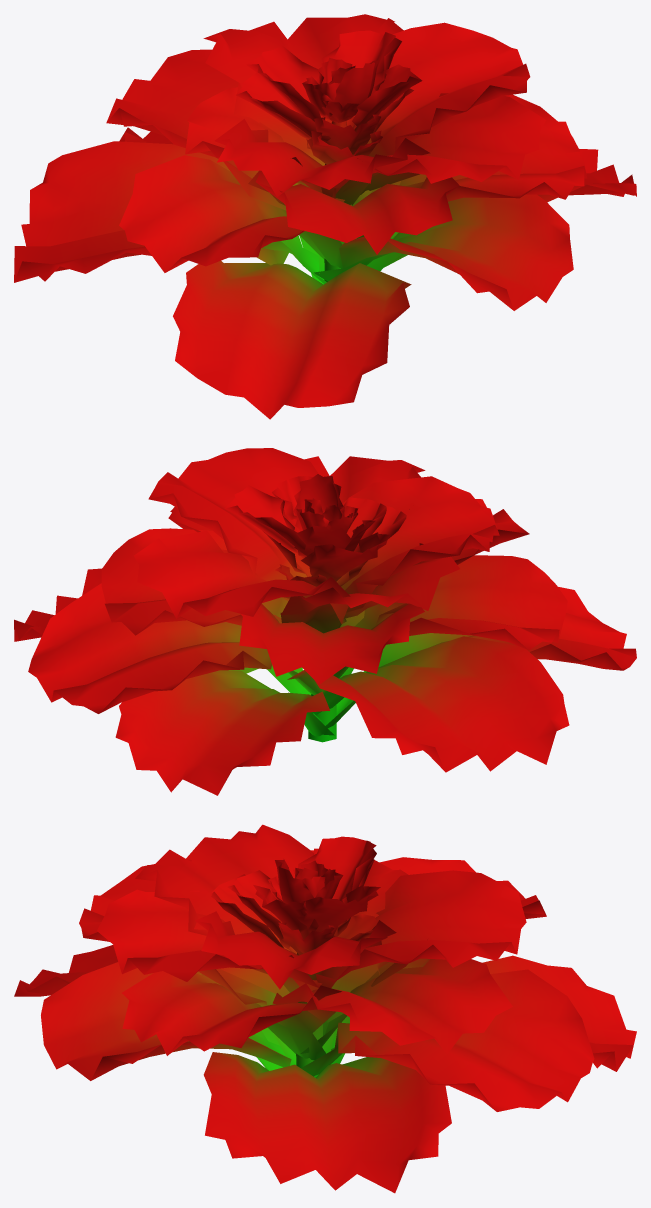
Rendered from White Ornamental Kale_LOD1_Var9_ue3ldcgja.fbx.
3 renders of one model, top to bottom at view 1: azimuth 30°, elevation 25°; view 2: azimuth 150°, elevation 25°; view 3: azimuth 270°, elevation 25°, orthographic. The views are drawn at different scales.
Parts seen in each view (by area): view 1: _ee01_Var9_LOD1; view 2: _ee01_Var9_LOD1; view 3: _ee01_Var9_LOD1.
Part boxes in pixels (bbox=[...]): _ee01_Var9_LOD1: bbox=[14, 14, 636, 419]; _ee01_Var9_LOD1: bbox=[14, 448, 636, 795]; _ee01_Var9_LOD1: bbox=[14, 824, 636, 1193].
Bounding box in the file's own units: 82.14 × 36.15 × 78.46.
